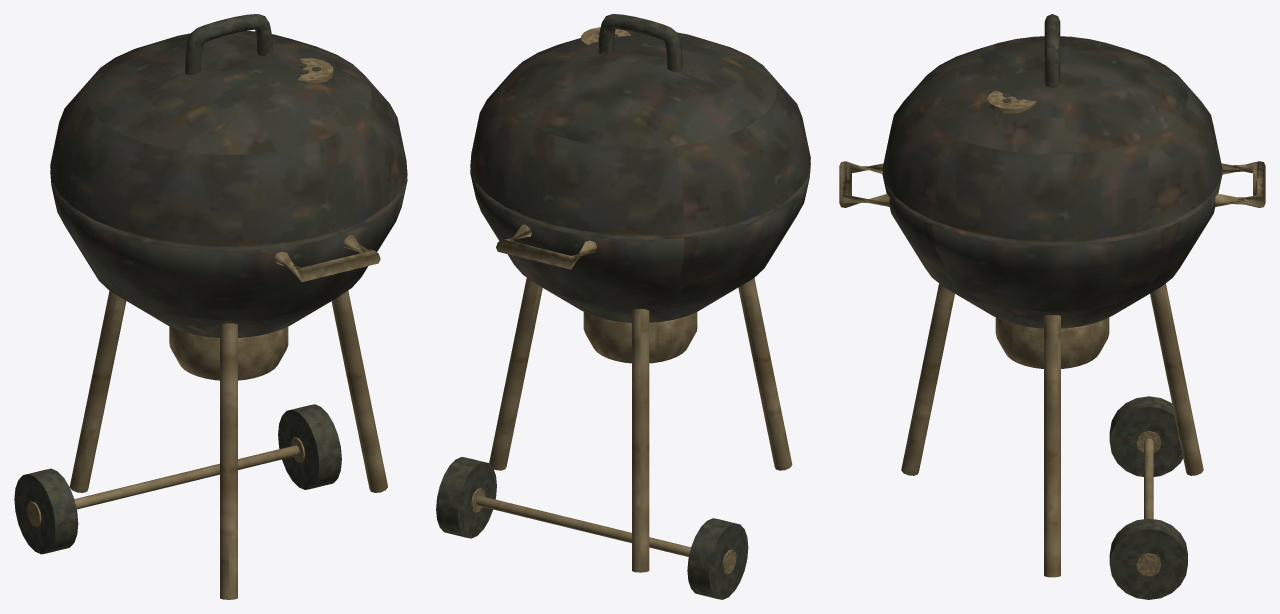
The model's file is by_grill.glb.
3 renders of one model, left to right at view 1: azimuth 30°, elevation 25°; view 2: azimuth 150°, elevation 25°; view 3: azimuth 270°, elevation 25°, orthographic. The views are drawn at different scales.
Parts seen in each view (by area): view 1: by_grill; view 2: by_grill; view 3: by_grill.
Boxes of the visible parts, left/top/right/bottom form: by_grill: left=14, top=14, right=407, bottom=599; by_grill: left=436, top=14, right=810, bottom=599; by_grill: left=839, top=14, right=1265, bottom=599.
Bounding box in the file's own units: 0.6057 × 0.9886 × 0.7522.
1 material, 1 textured.
